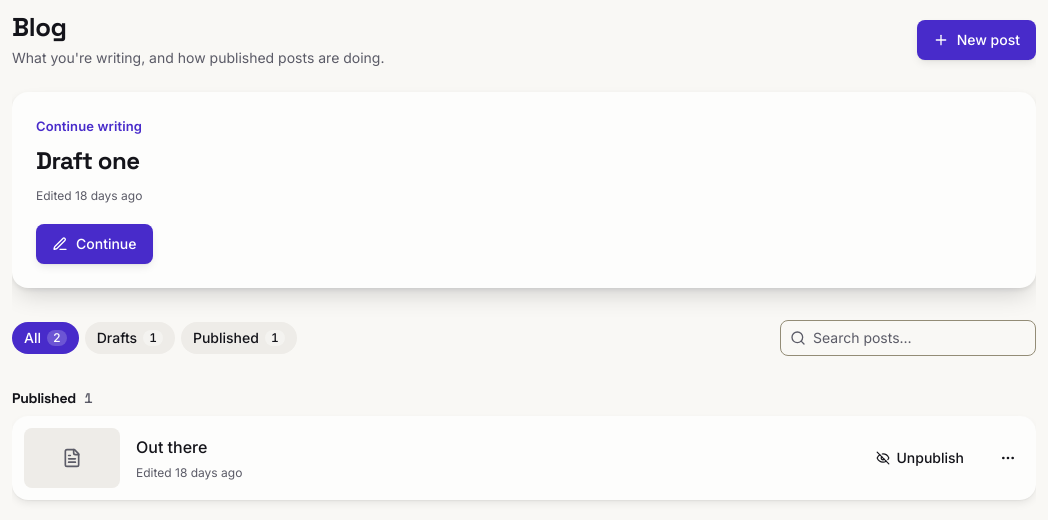
Scenario: BlogAdminPage › filters to published posts
Click the button "Published 1": [239, 338] box x1=181 y1=322 x2=297 y2=354
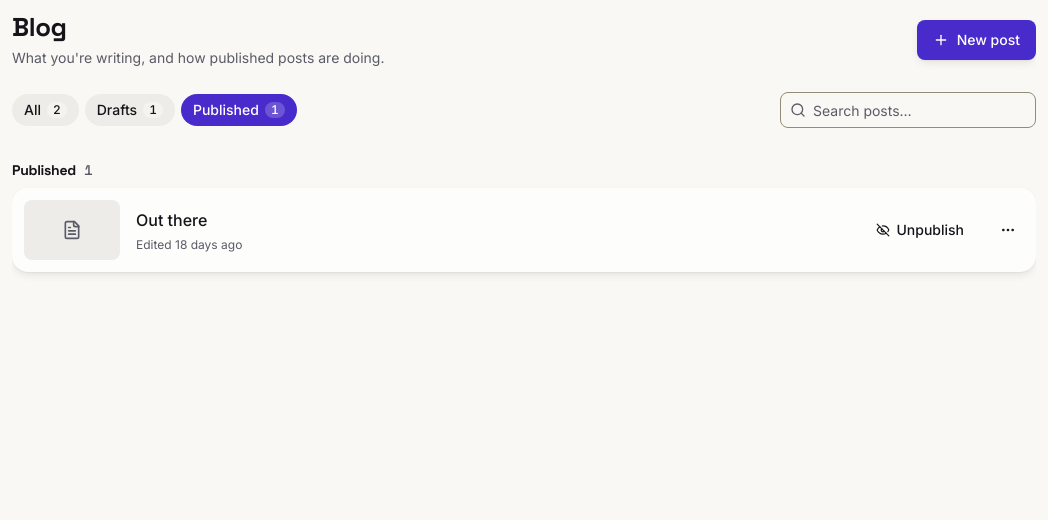
expect the text "Out there" is shown: met, box x1=136 y1=210 x2=207 y2=230
expect the heading "Draft one" is gone: met
